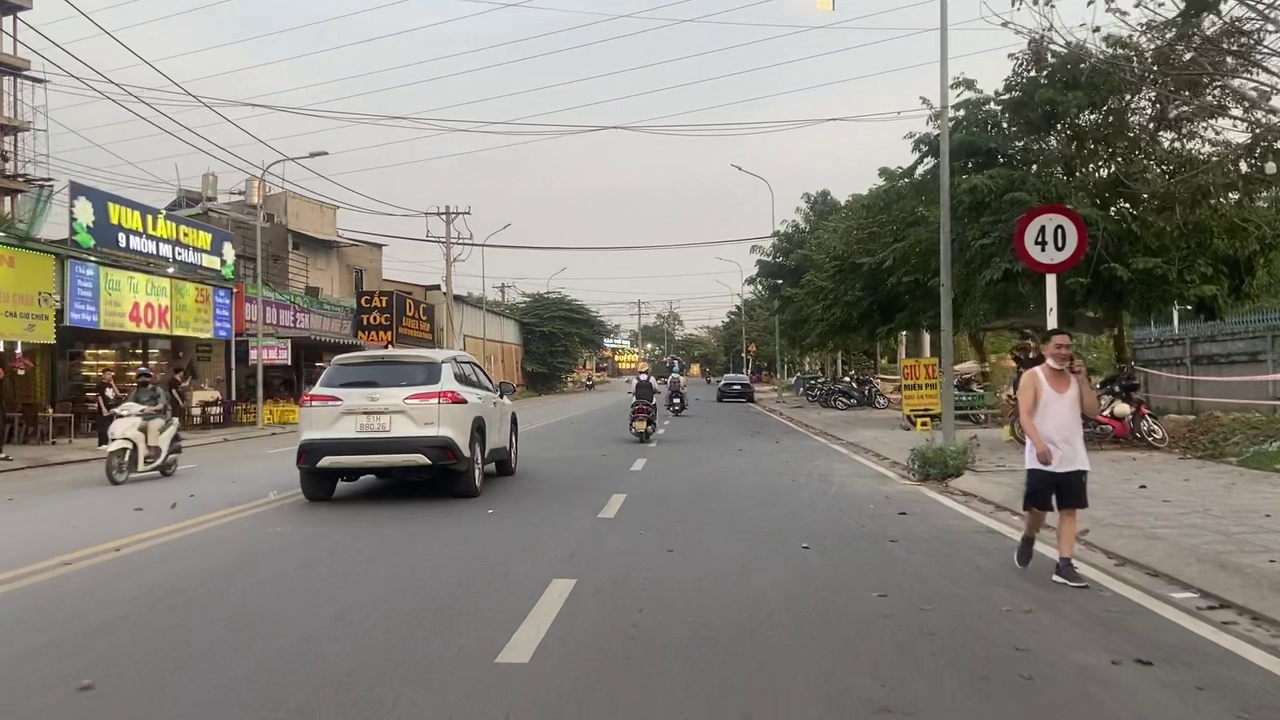gioi_han_40km: (1013, 205, 1089, 275)
